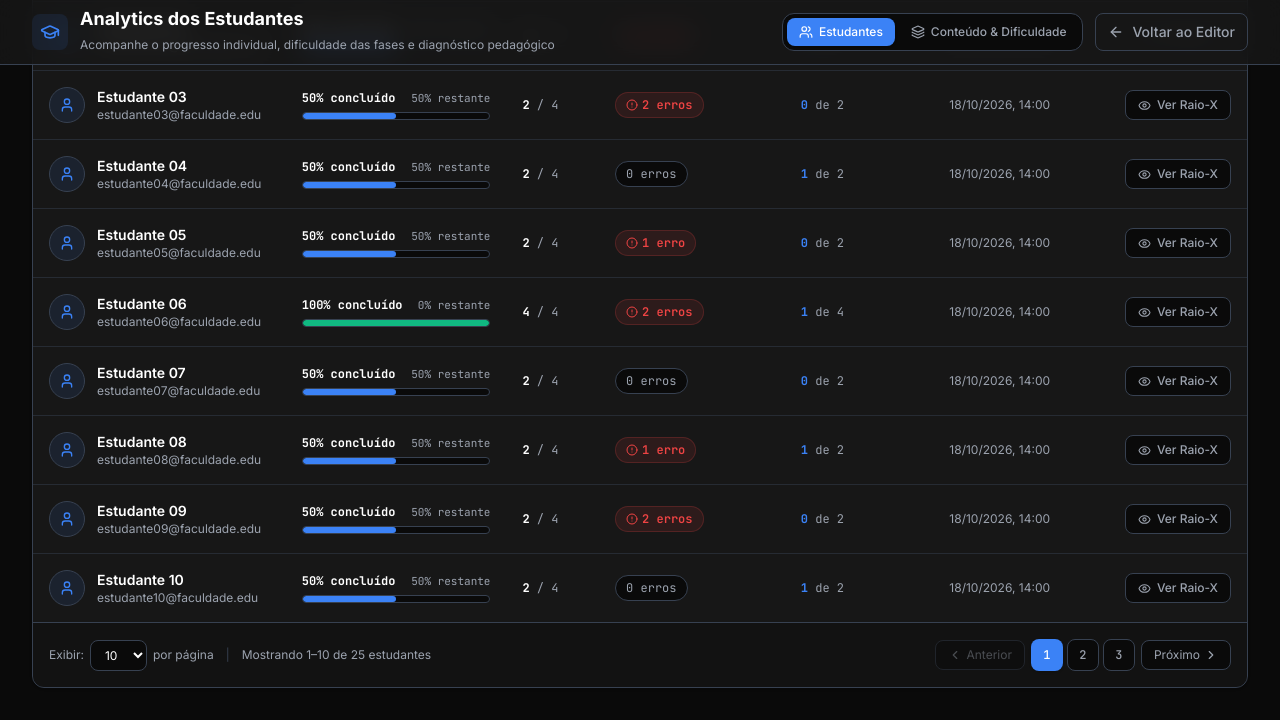
StudentAnalytics Dashboard - Paginação e Performance (SPEC-009 v2.10.0) › deve avançar para a página 2 ao clicar em "Próximo" ou na pílula numérica "2"
(page scrolled)
Click the button "Próximo". click: [1186, 655]
box: [1141,640,1231,670]
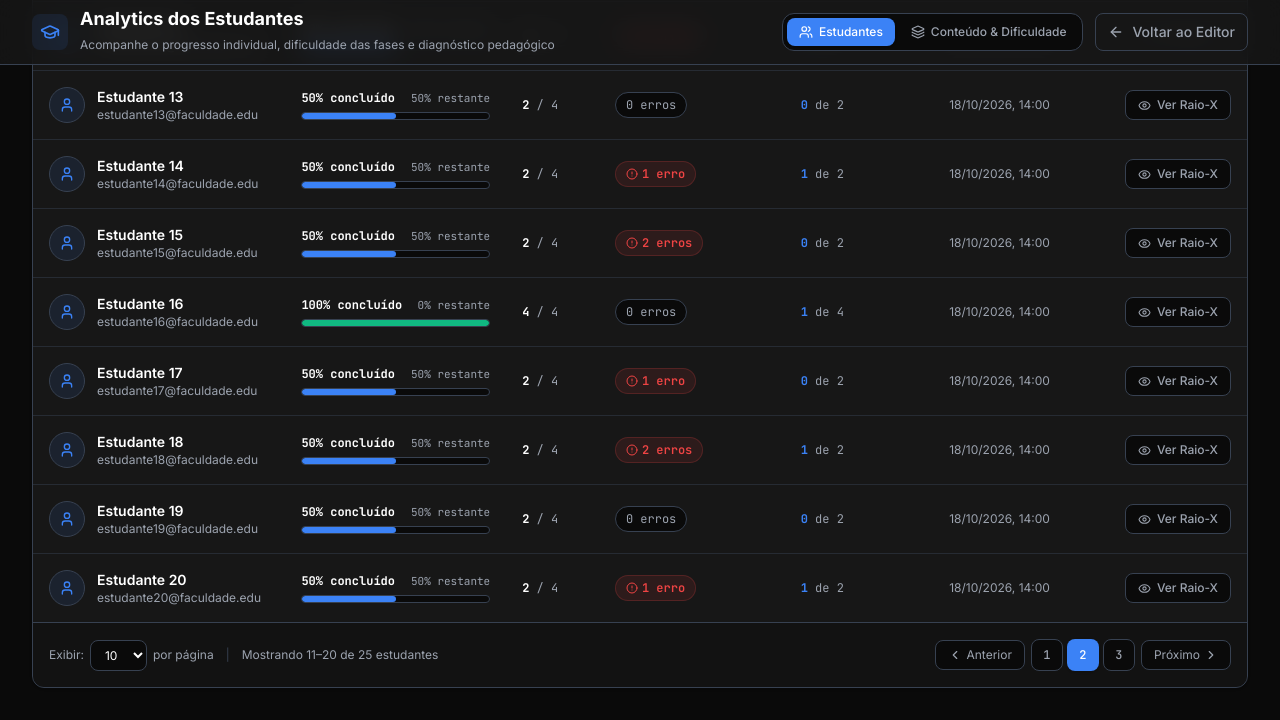
Expected: the text "Estudante 20" is shown, [97,571,187,588]
Expected: the text "Estudante 10" is gone
Expected: the text "Mostrando 11–20 de 25 estudantes" is shown, [242,647,438,663]
